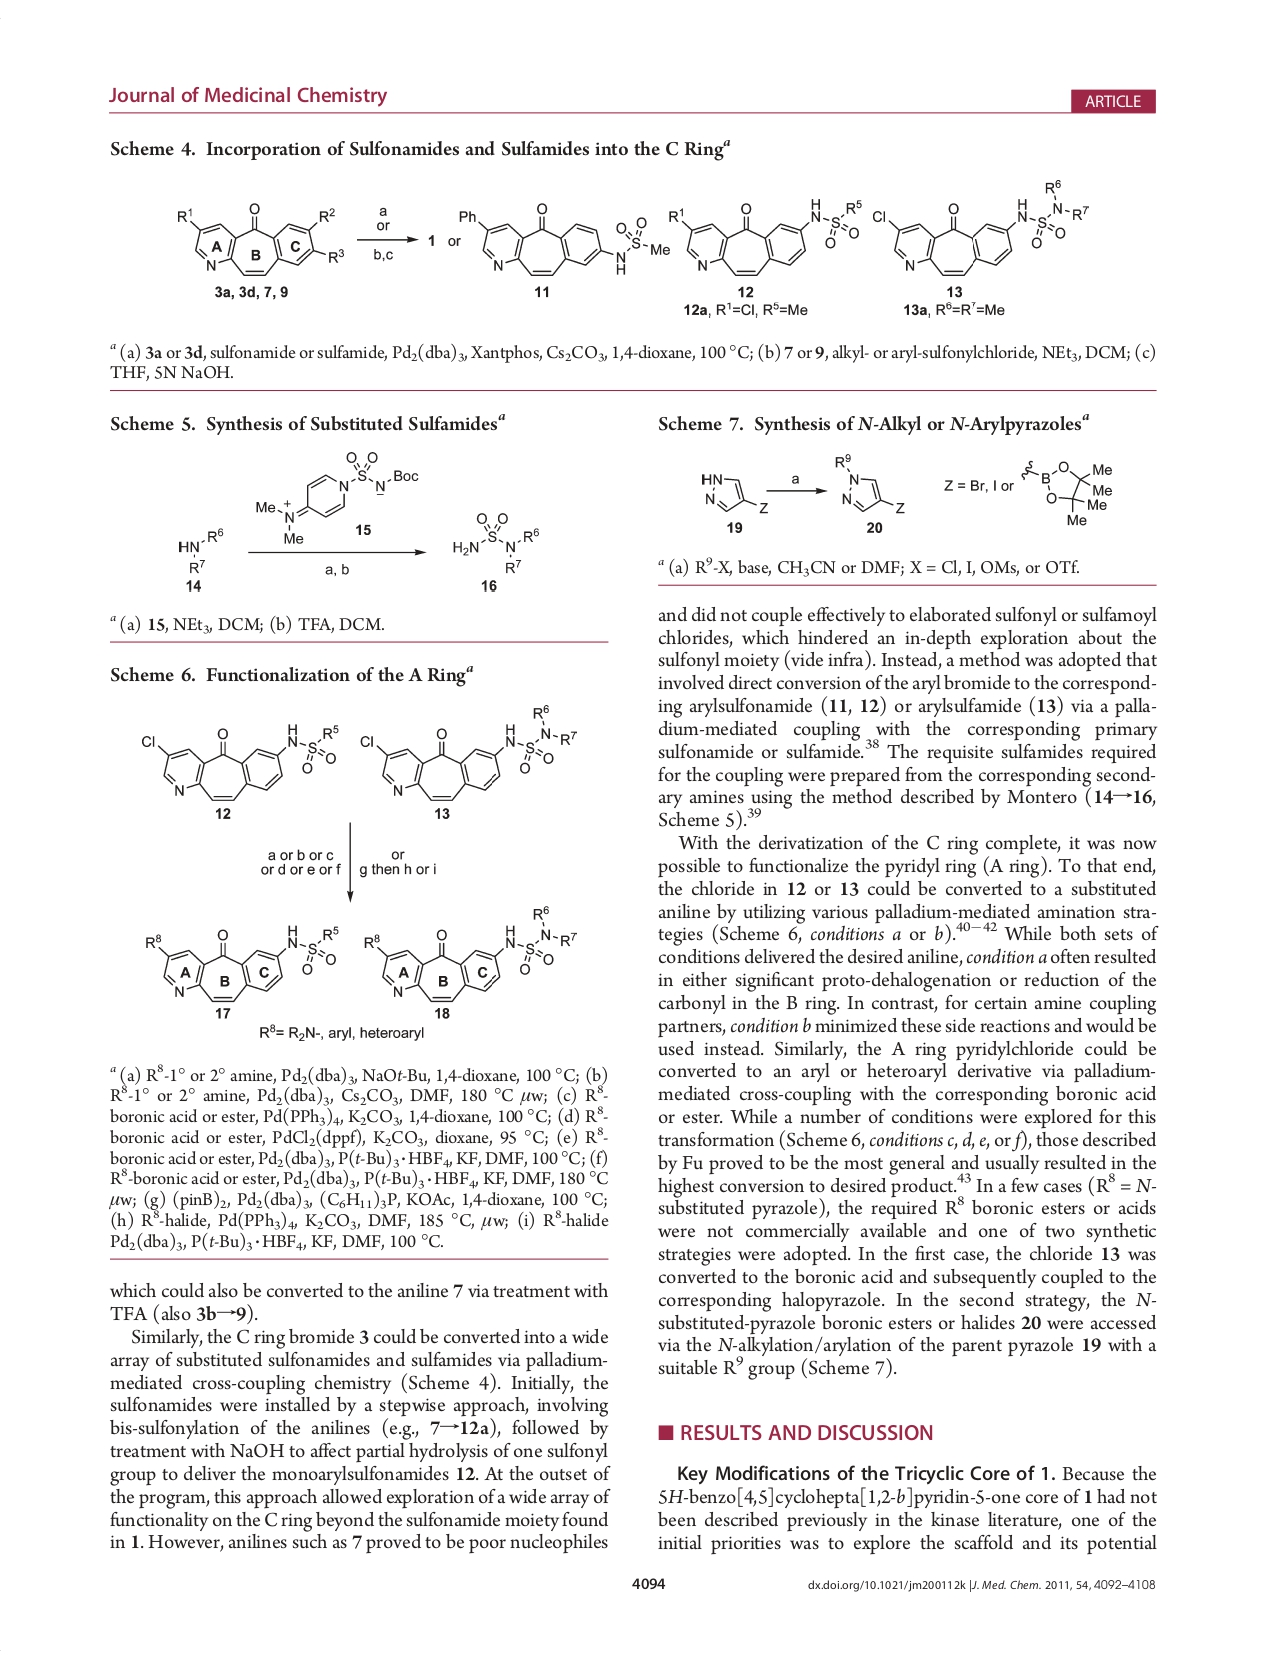exist_molecular: (358, 704, 580, 805), (362, 904, 581, 1005), (871, 178, 1090, 278), (138, 717, 347, 803), (140, 916, 344, 1004), (456, 201, 672, 281), (668, 195, 867, 281), (250, 449, 419, 545), (172, 195, 351, 281), (1019, 456, 1117, 531), (449, 507, 540, 576), (830, 446, 907, 523), (696, 469, 773, 517), (170, 521, 229, 575)
